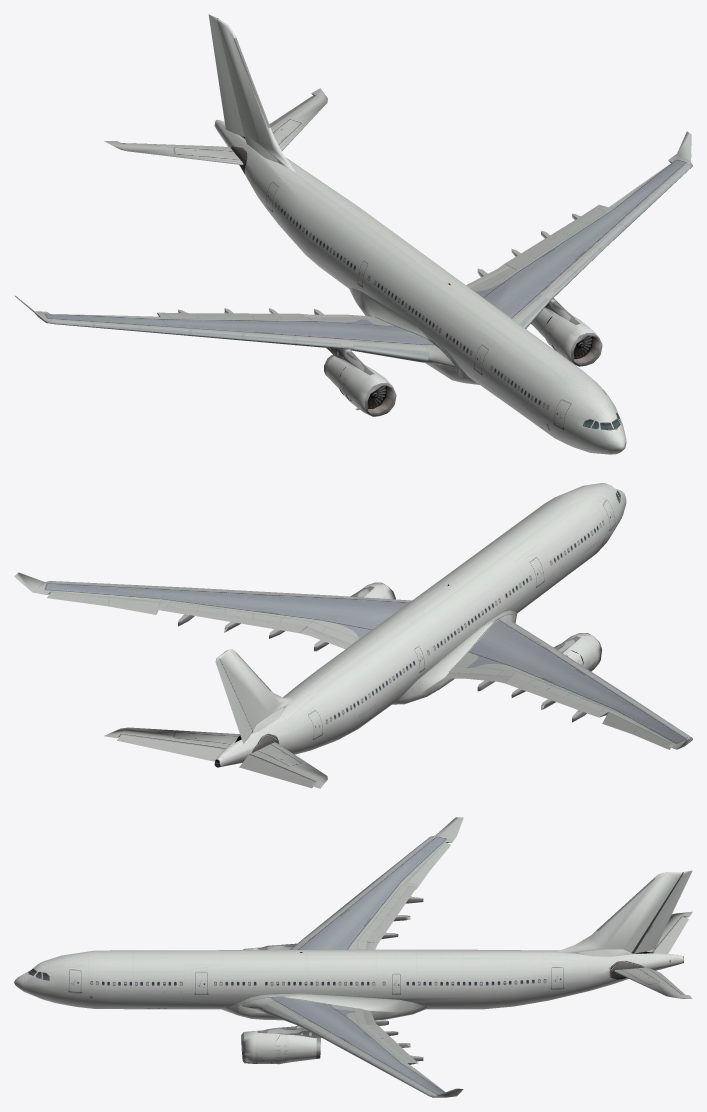
File: a330-Bm2VZL_p.glb
3 renders of one model, top to bottom at view 1: azimuth 30°, elevation 25°; view 2: azimuth 150°, elevation 25°; view 3: azimuth 270°, elevation 25°, orthographic. The views are drawn at different scales.
Parts seen in each view (by area): view 1: node_2; view 2: node_2; view 3: node_2.
Part boxes in pixels (x1,y1,x2,y2): node_2: [14, 14, 692, 454]; node_2: [14, 483, 692, 788]; node_2: [14, 817, 692, 1097].
Bounding box in the file's own units: 60.25 × 15.41 × 63.69.
2 materials, 2 textured.
